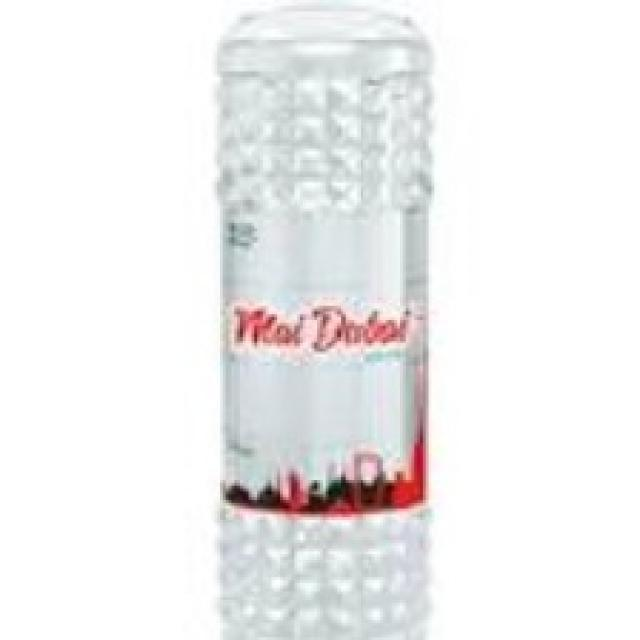plastic_bottle: (208, 8, 431, 640)
